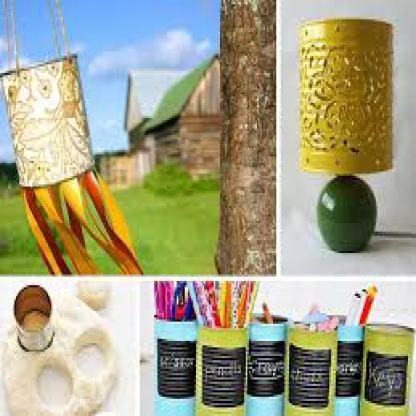METAL: (297, 17, 394, 174), (0, 51, 95, 186), (360, 322, 411, 414), (194, 326, 244, 414), (286, 326, 334, 414), (152, 313, 194, 412), (244, 319, 286, 414), (11, 283, 53, 350), (334, 322, 358, 414)
